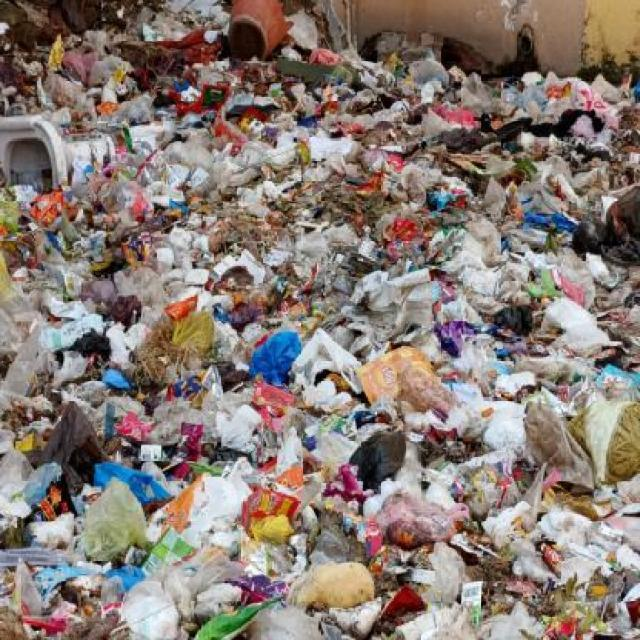garbage: (0, 1, 639, 636)
